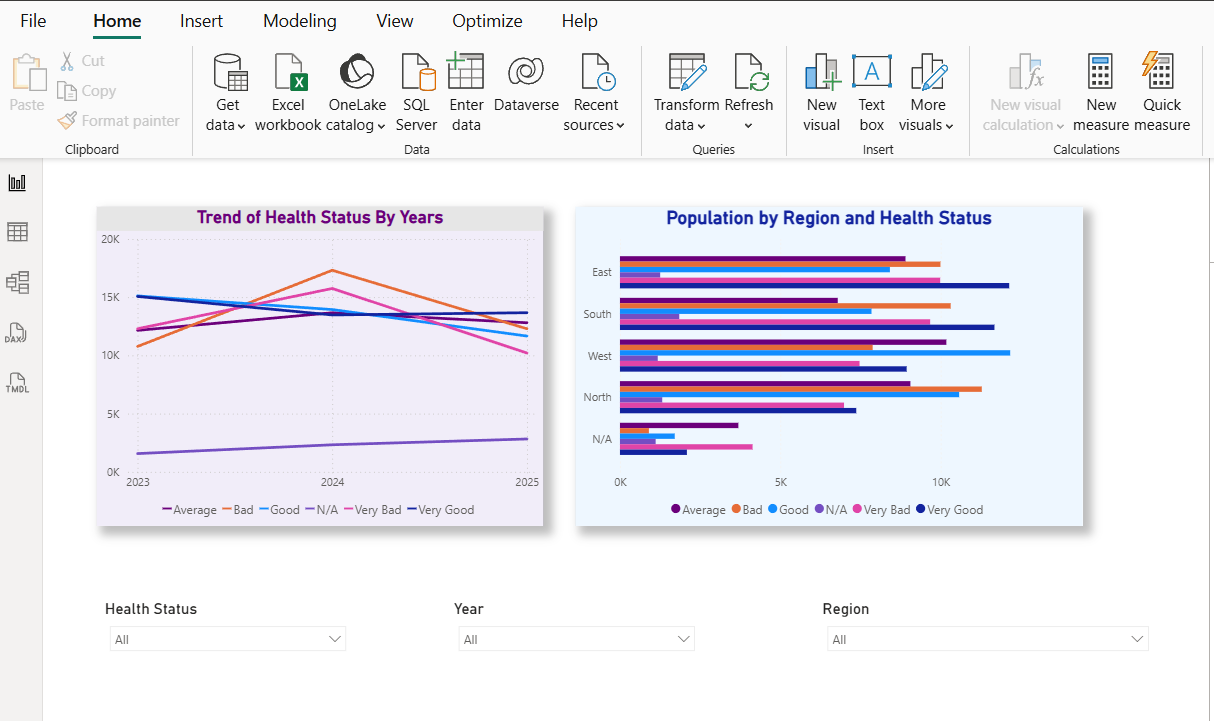

The dashboard page shown, as its layout file describes it:
{"tool":"powerbi","page":{"name":"Trends","canvas":[1280,720],"ordinal":1},"visuals":[{"type":"lineChart","title":"Trend of Health Status By Years","fields":{"Category":["Clean-Up data task 4.Year"],"Y":["Sum(Clean-Up data task 4.Count)"],"Series":["Clean-Up data task 4.HealthStatus"]},"box":[59.4,53.7,490.5,350.5],"z":0},{"type":"clusteredBarChart","title":"Population by Region and Health Status","fields":{"Series":["Clean-Up data task 4.HealthStatus"],"Category":["Clean-Up data task 4.Region"],"Y":["Sum(Clean-Up data task 4.Count)"]},"box":[585.2,53.7,556.9,350.5],"z":1000},{"type":"slicer","title":"Health Status","fields":{"Values":["Clean-Up data task 4.HealthStatus"]},"box":[63.6,484.8,279.9,101.8],"z":2000},{"type":"slicer","title":"Year","fields":{"Values":["Clean-Up data task 4.Year"]},"box":[446.6,484.8,279.9,114.5],"z":3000},{"type":"slicer","title":"Region","fields":{"Values":["Clean-Up data task 4.Region"]},"box":[850.9,484.8,373.1,101.8],"z":4000}]}

Visuals, with their boxes on the page's 1280x720 design canvas (x1, y1, x2, y2). These are canvas units, not pixel positions in the 1214x721 screenshot, which may show the page scaled, cropped or inside an application window:
"Trend of Health Status By Years" lineChart: l=59, t=54, r=550, b=404
"Population by Region and Health Status" clusteredBarChart: l=585, t=54, r=1142, b=404
"Health Status" slicer: l=64, t=485, r=344, b=587
"Year" slicer: l=447, t=485, r=726, b=599
"Region" slicer: l=851, t=485, r=1224, b=587
